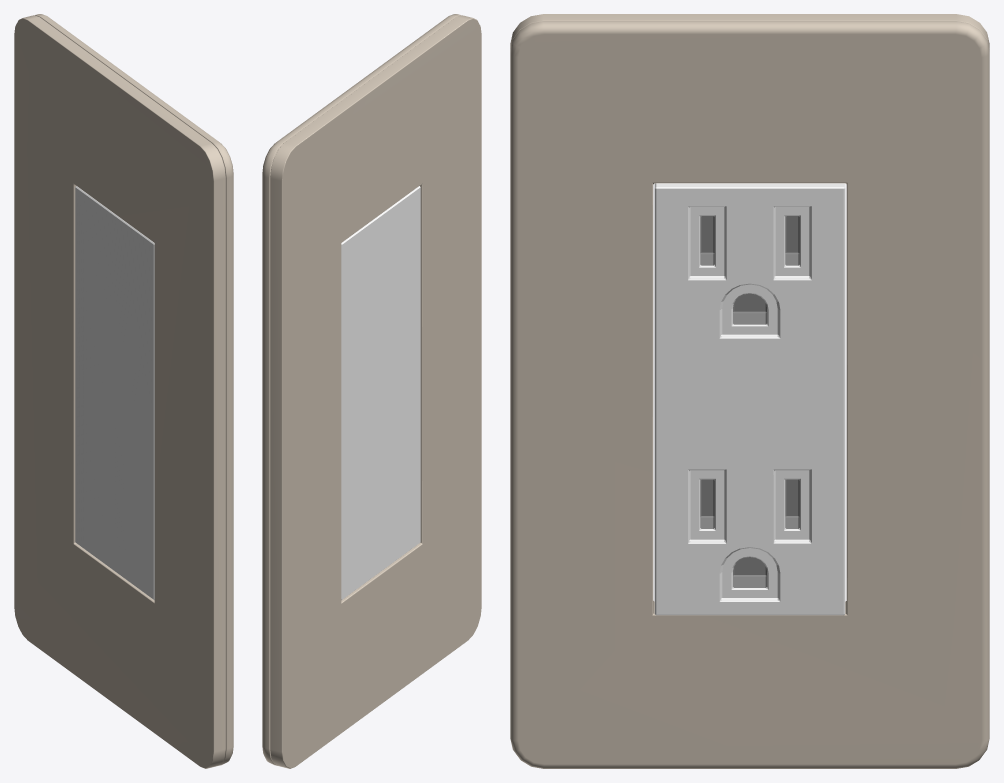
File: Outlet.glb
The picture shows the model from 3 angles, left to right: view 1: azimuth 30°, elevation 25°; view 2: azimuth 150°, elevation 25°; view 3: azimuth 270°, elevation 25°; orthographic projection. The views are drawn at different scales.
Parts seen in each view (by area): view 1: Plane.004; view 2: Plane.004; view 3: Plane.004.
Part boxes in pixels (left/top/right/bottom): Plane.004: left=14, top=14, right=233, bottom=768; Plane.004: left=262, top=14, right=481, bottom=768; Plane.004: left=510, top=14, right=989, bottom=768.
Size of the model in its own units: 0.00548 by 0.12 by 0.07.
